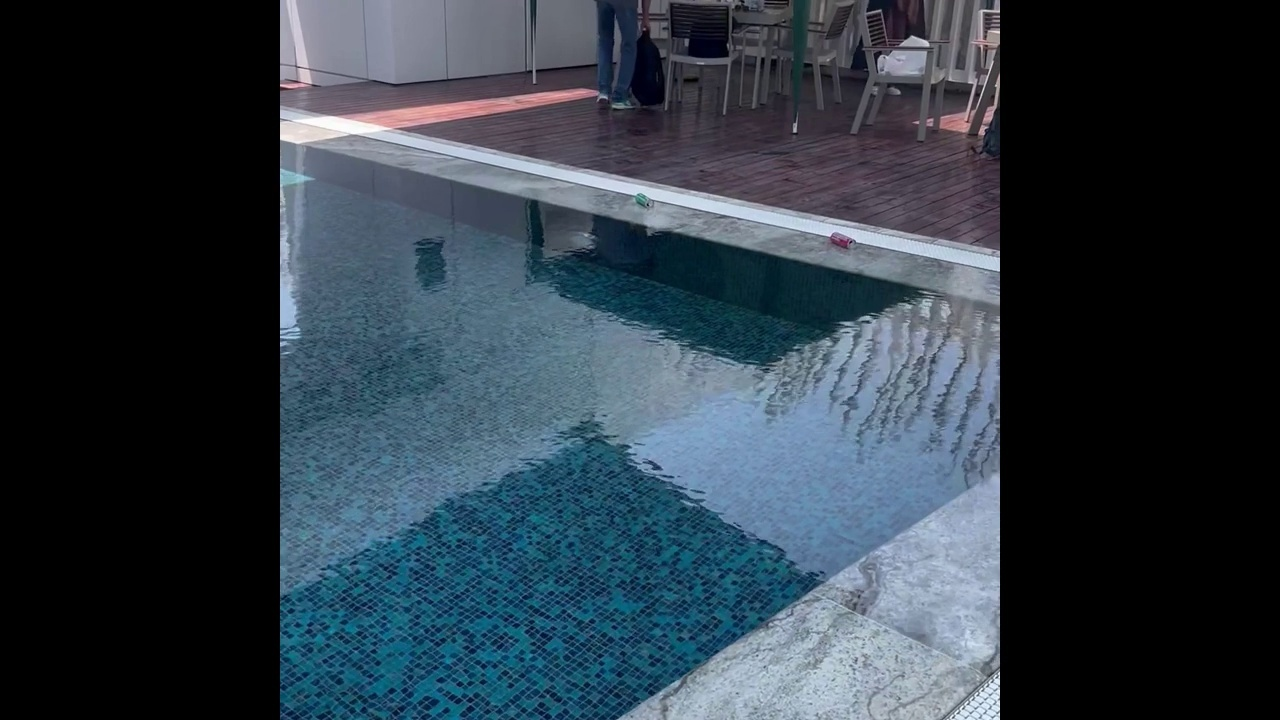debris: (827, 226, 856, 253), (635, 191, 657, 213)
